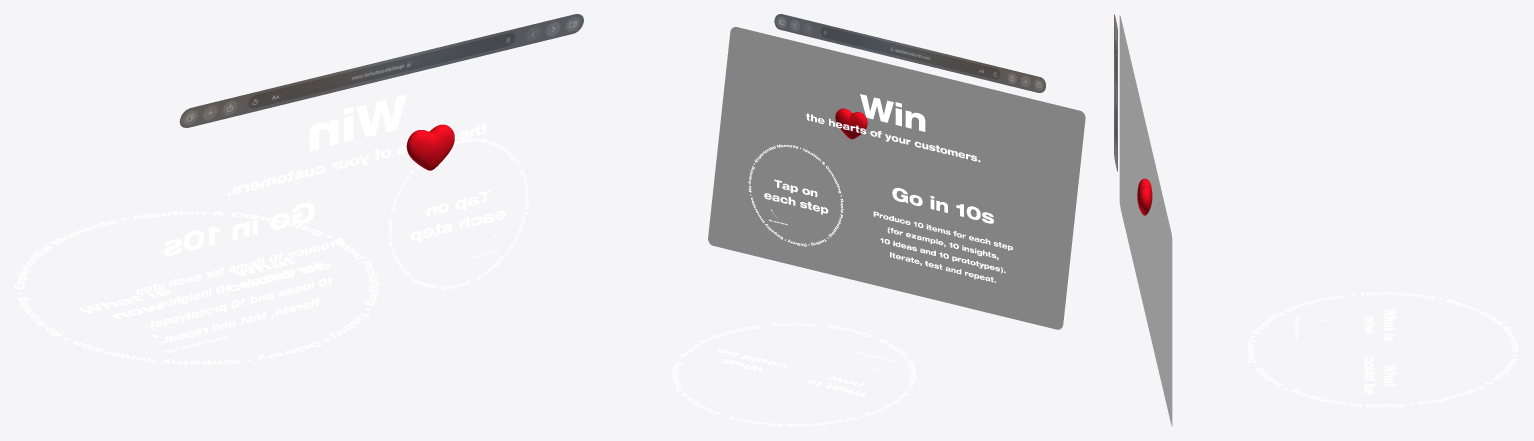
File: toolkit-mobile.glb
3 views of the same model, side by side, from view 1: azimuth 30°, elevation 25°; view 2: azimuth 150°, elevation 25°; view 3: azimuth 270°, elevation 25° (orthographic). The views are drawn at different scales.
Parts seen in each view (by area): view 1: Text.003, dd.004, Text, xx.023; view 2: dd.003, Text.003, dd.004, Text, xx.023; view 3: dd.003, Text, dd.004, xx.023.
Boxes of the visible parts, bbox=[...] form: Text.003: bbox=[136, 94, 505, 343]; dd.004: bbox=[179, 14, 583, 127]; Text: bbox=[14, 138, 529, 365]; xx.023: bbox=[406, 124, 454, 170]; dd.003: bbox=[708, 26, 1085, 329]; Text.003: bbox=[764, 94, 1012, 282]; dd.004: bbox=[774, 14, 1045, 92]; Text: bbox=[671, 144, 916, 426]; xx.023: bbox=[835, 108, 867, 139]; dd.003: bbox=[1119, 15, 1172, 426]; Text: bbox=[1245, 291, 1519, 407]; dd.004: bbox=[1114, 14, 1117, 171]; xx.023: bbox=[1137, 178, 1152, 215].
Size of the model in its own units: 31.89 by 20.59 by 28.35.
5 materials, 1 textured.
